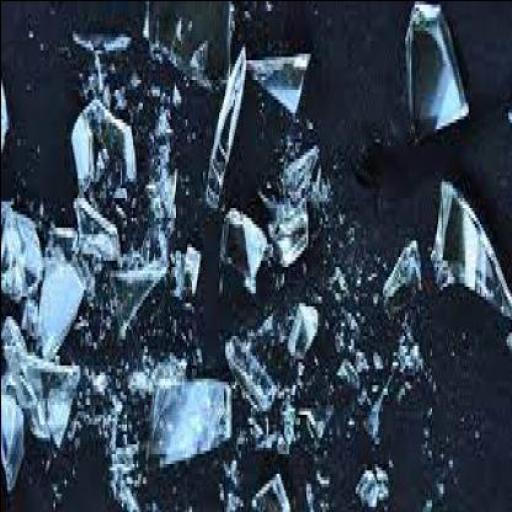glass: (428, 184, 510, 322), (402, 3, 466, 151), (140, 3, 230, 99), (202, 38, 246, 214), (146, 384, 226, 470), (64, 111, 138, 200), (34, 243, 82, 364), (243, 49, 307, 128), (256, 154, 318, 224), (0, 200, 42, 302), (226, 341, 274, 417), (30, 368, 75, 449), (1, 319, 38, 410), (106, 269, 154, 338), (218, 216, 261, 292), (120, 354, 184, 400), (1, 372, 25, 492), (124, 220, 172, 278), (144, 164, 185, 226), (267, 210, 305, 276), (378, 243, 418, 302), (364, 362, 392, 442), (166, 246, 198, 305), (104, 450, 136, 509), (285, 394, 323, 443), (68, 32, 128, 60), (288, 302, 313, 368), (354, 460, 386, 509), (78, 52, 107, 102), (395, 328, 419, 387), (248, 480, 286, 512), (97, 377, 126, 417), (149, 98, 173, 144), (66, 406, 94, 444), (243, 319, 276, 351), (308, 177, 328, 217), (276, 427, 296, 459), (151, 138, 167, 177), (20, 312, 35, 348), (100, 92, 122, 115), (249, 427, 270, 449), (100, 423, 114, 453), (124, 72, 142, 94), (301, 482, 314, 511), (501, 336, 511, 358), (312, 476, 324, 489), (168, 89, 180, 102), (417, 504, 430, 510)
